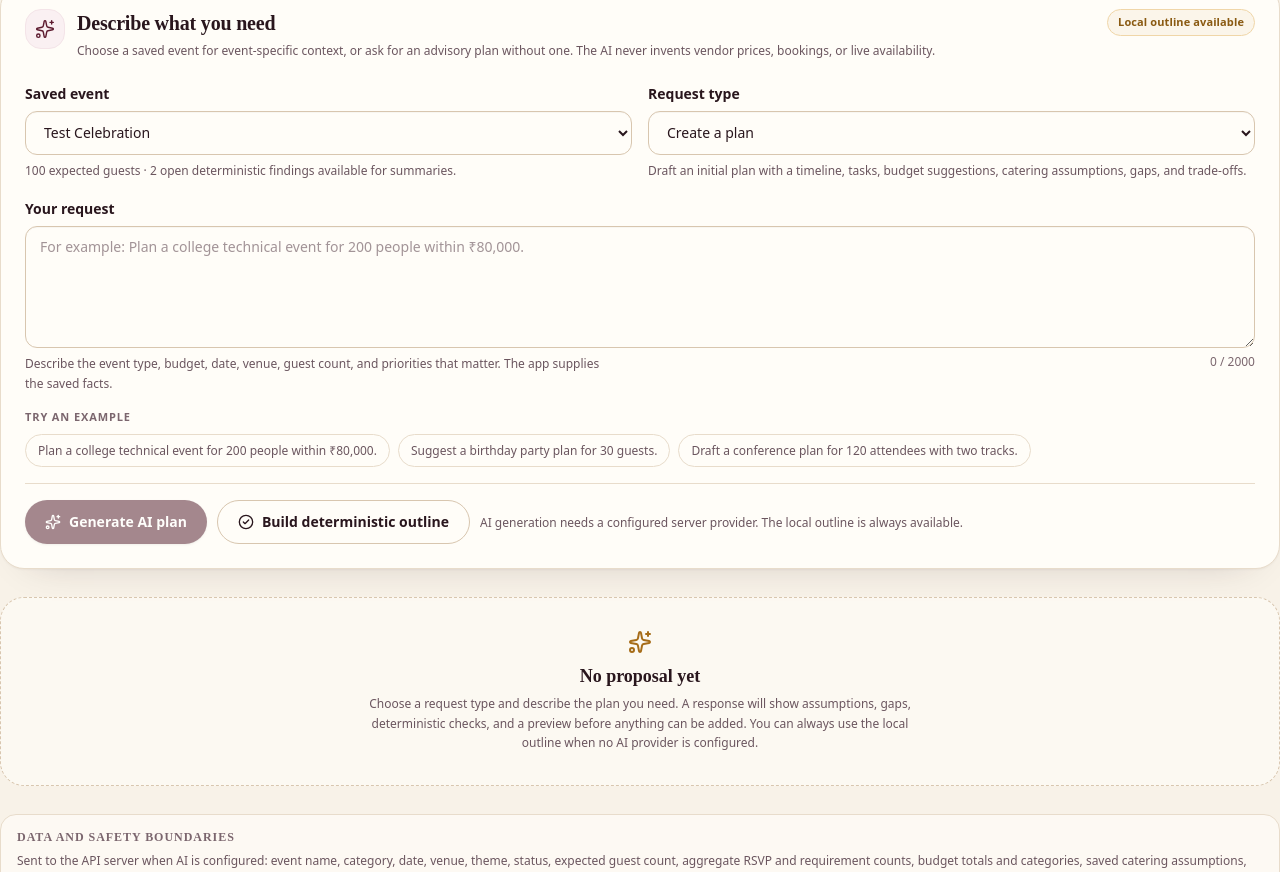
AiPlanningPage › reports a status API failure while keeping the local outline usable
The image size is (1280, 872).
(page scrolled)
expect the button "Generate AI plan" is disabled: met, box [25,500,207,544]
Click the button "Suggest a birthday party plan for 30 guests." at x=534, y=451, box [398,434,670,467]
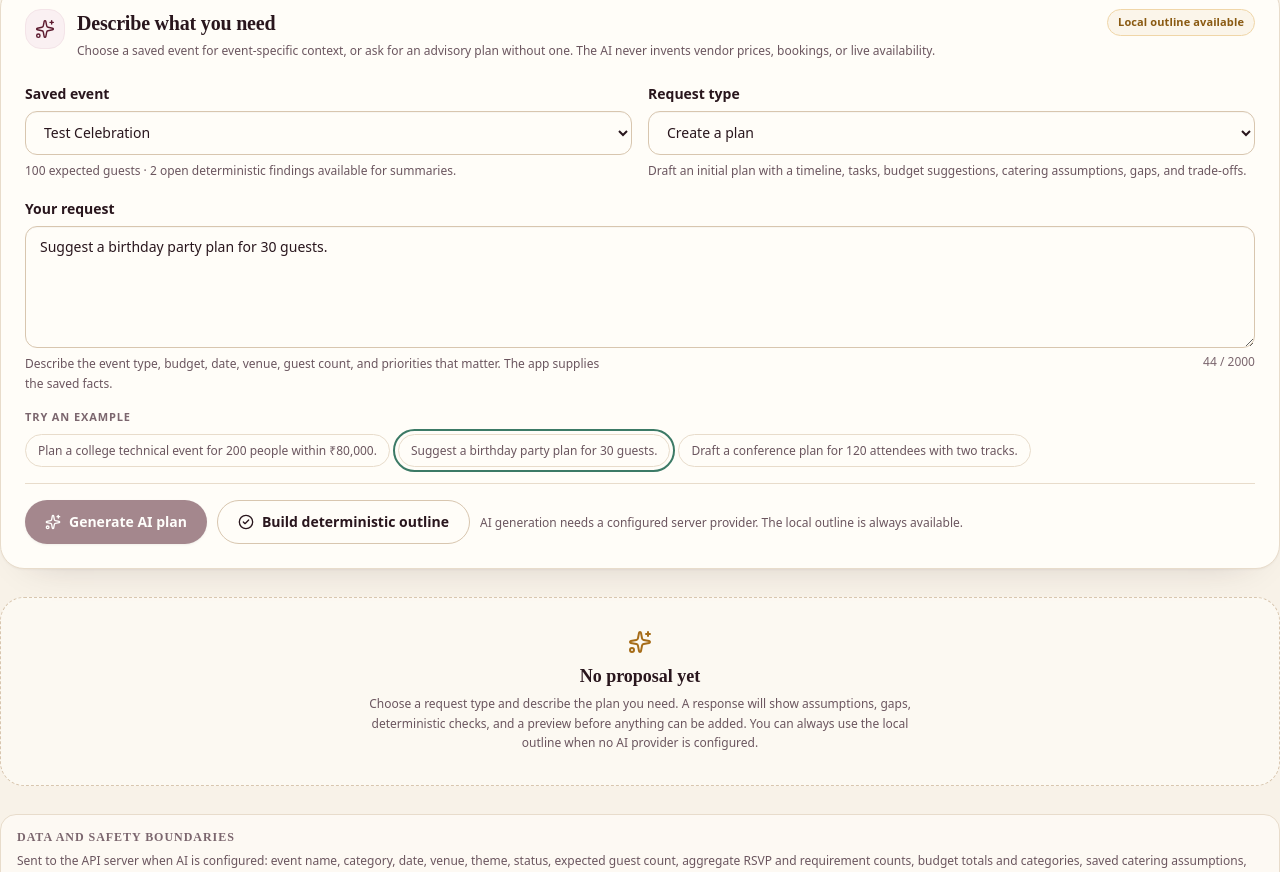
Click the button "Build deterministic outline" at x=343, y=522, box [217,500,470,544]
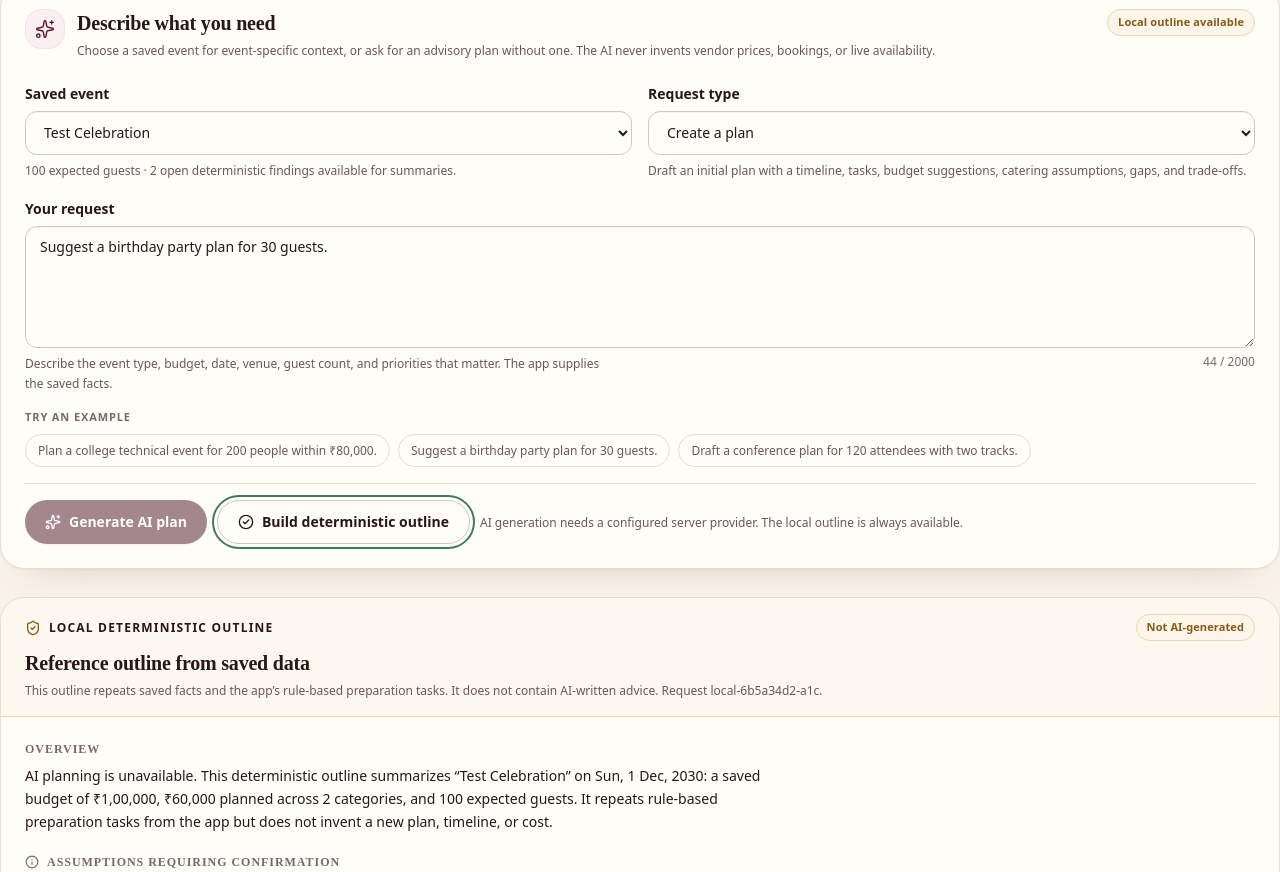
expect the text "Local deterministic outline" is shown: met, box [49,620,273,636]
expect the text "Not AI-generated" is shown: met, box [1136,614,1255,641]
